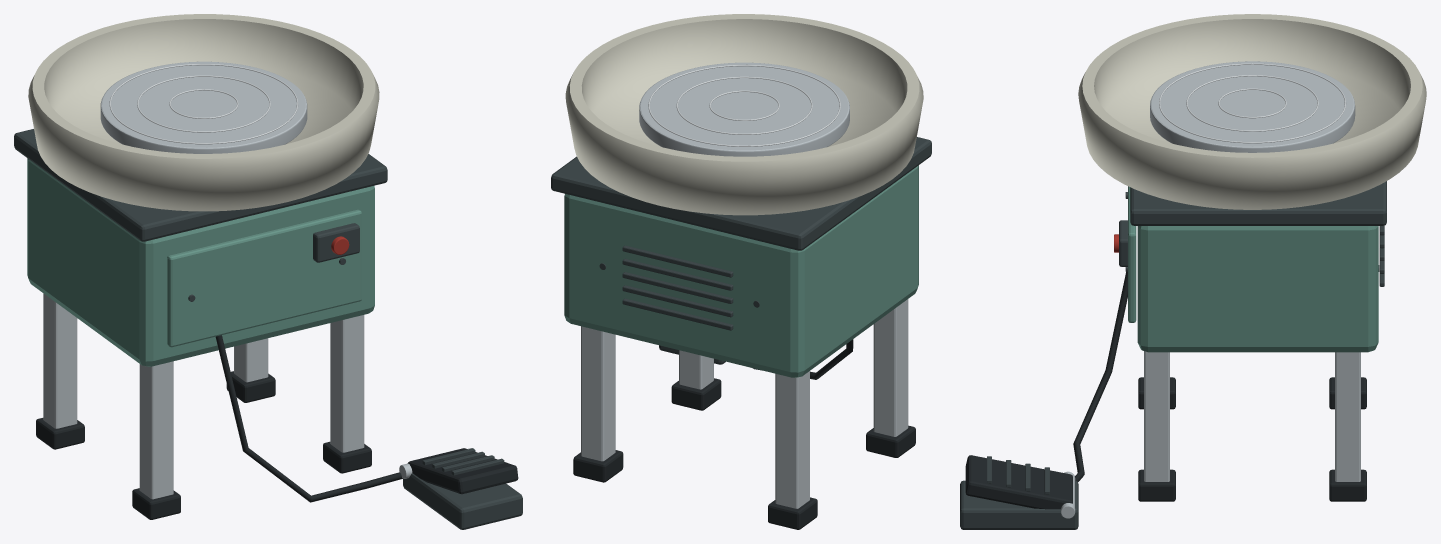
File: city-electric-pottery-wheel.glb
The picture shows the model from 3 angles, left to right: view 1: azimuth 30°, elevation 25°; view 2: azimuth 150°, elevation 25°; view 3: azimuth 270°, elevation 25°; orthographic projection. The views are drawn at different scales.
Visible parts, largest first — view 1: Assembly | Muted sage machine enamel, Assembly | Warm neutral ceramic splash pan, Assembly | Satin workshop fittings, Assembly | Dark metal fixtures, Assembly | Dark pads and cable rubber, Assembly | Polished small hardware; view 2: Assembly | Warm neutral ceramic splash pan, Assembly | Muted sage machine enamel, Assembly | Satin workshop fittings, Assembly | Dark metal fixtures, Assembly | Dark pads and cable rubber, Assembly | Polished small hardware; view 3: Assembly | Warm neutral ceramic splash pan, Assembly | Muted sage machine enamel, Assembly | Satin workshop fittings, Assembly | Dark metal fixtures, Assembly | Dark pads and cable rubber, Assembly | Polished small hardware.
Boxes of the visible parts, <box> form: Assembly | Muted sage machine enamel: <box>27,158,374,366</box>; Assembly | Warm neutral ceramic splash pan: <box>28,14,379,211</box>; Assembly | Satin workshop fittings: <box>43,61,475,499</box>; Assembly | Dark metal fixtures: <box>14,129,522,529</box>; Assembly | Dark pads and cable rubber: <box>36,335,518,519</box>; Assembly | Polished small hardware: <box>109,64,298,144</box>; Assembly | Warm neutral ceramic splash pan: <box>565,14,923,215</box>; Assembly | Muted sage machine enamel: <box>564,165,918,377</box>; Assembly | Satin workshop fittings: <box>581,62,908,508</box>; Assembly | Dark metal fixtures: <box>551,137,931,364</box>; Assembly | Dark pads and cable rubber: <box>573,339,915,529</box>; Assembly | Polished small hardware: <box>648,64,840,146</box>; Assembly | Warm neutral ceramic splash pan: <box>1078,14,1426,209</box>; Assembly | Muted sage machine enamel: <box>1128,186,1378,352</box>; Assembly | Satin workshop fittings: <box>1061,61,1360,518</box>; Assembly | Dark metal fixtures: <box>960,181,1386,529</box>; Assembly | Dark pads and cable rubber: <box>965,272,1366,509</box>; Assembly | Polished small hardware: <box>1159,63,1346,143</box>.
Bounding box in the file's own units: 0.7425 × 0.788 × 0.9185.
